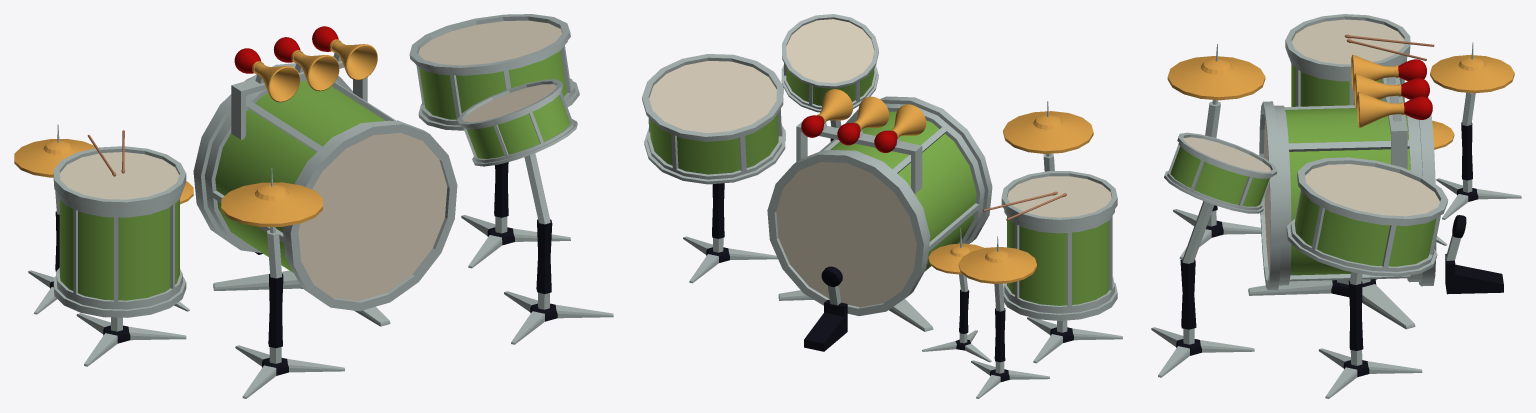
Rendered from F_Drum_01.fbx.
3 views of the same model, side by side, from view 1: azimuth 30°, elevation 25°; view 2: azimuth 150°, elevation 25°; view 3: azimuth 270°, elevation 25° (orthographic). The views are drawn at different scales.
Parts seen in each view (by area): view 1: F_Drums_01; view 2: F_Drums_01; view 3: F_Drums_01.
Boxes of the visible parts, left/top/right/bottom form: F_Drums_01: left=14, top=14, right=613, bottom=398; F_Drums_01: left=642, top=14, right=1122, bottom=398; F_Drums_01: left=1151, top=14, right=1521, bottom=398.
Size of the model in its own units: 331 by 143 by 219.
